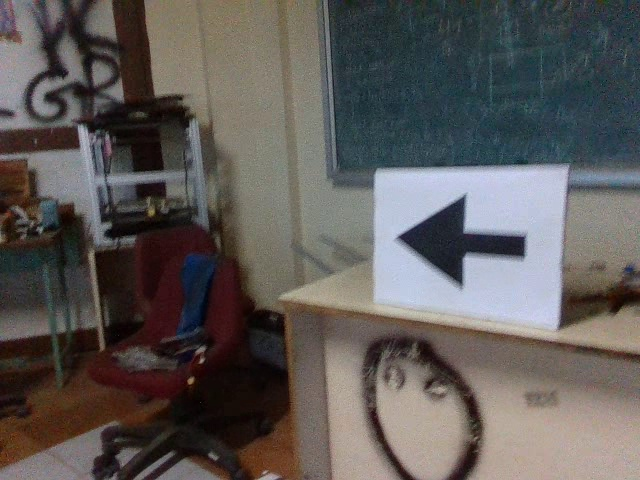Left: (389, 190, 535, 295)
